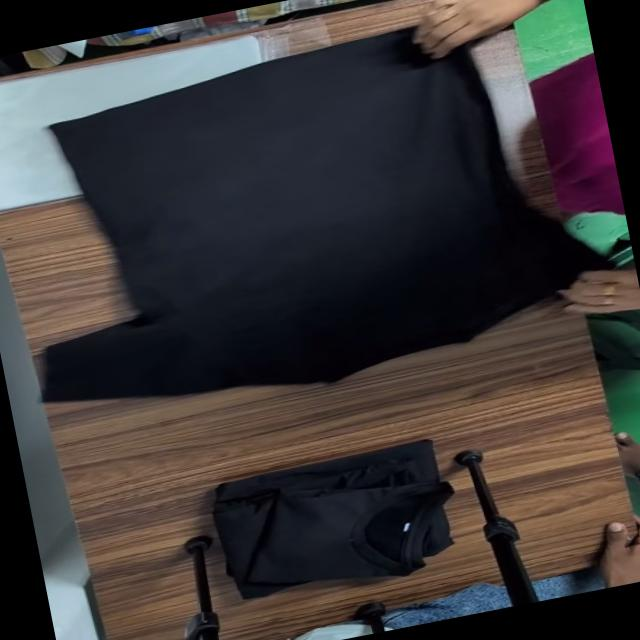new-garment: (44, 29, 602, 401)
